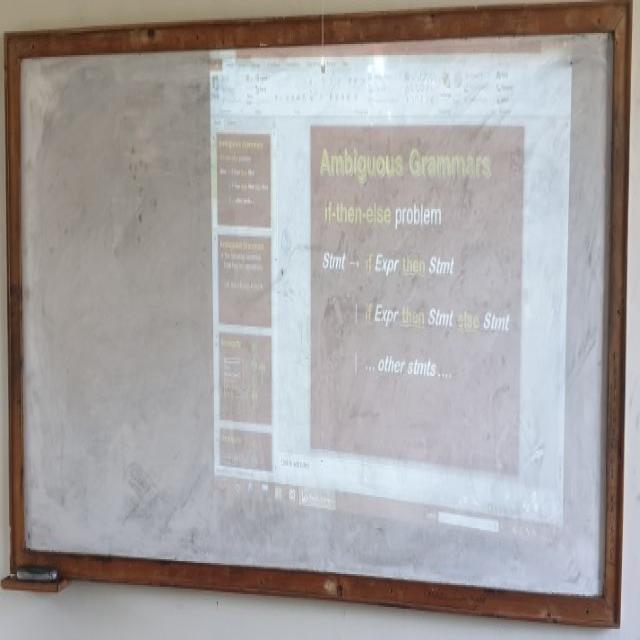Slide: (212, 42, 571, 558)
White-board: (14, 20, 621, 608)
